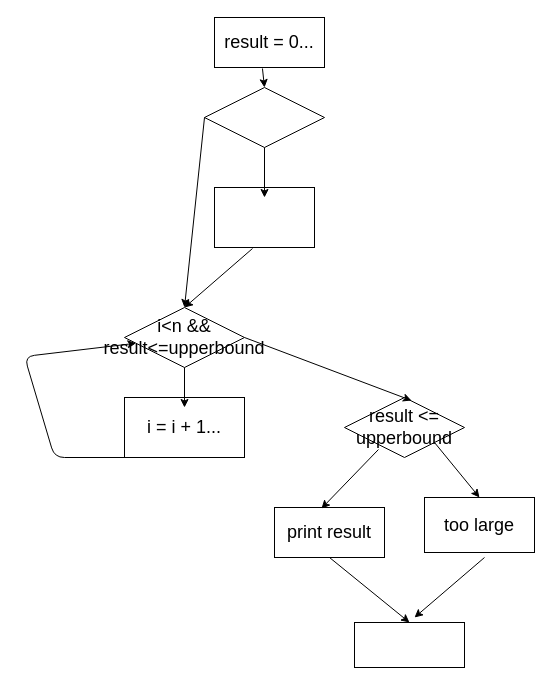
Image size: 552x685. Some labels were removed from this diagram. Each missing label, with the centre of its shape:
"n < 0" belongs at (x=264, y=117).
"n = -n" belongs at (x=264, y=217).
"return result" belongs at (x=409, y=645).
